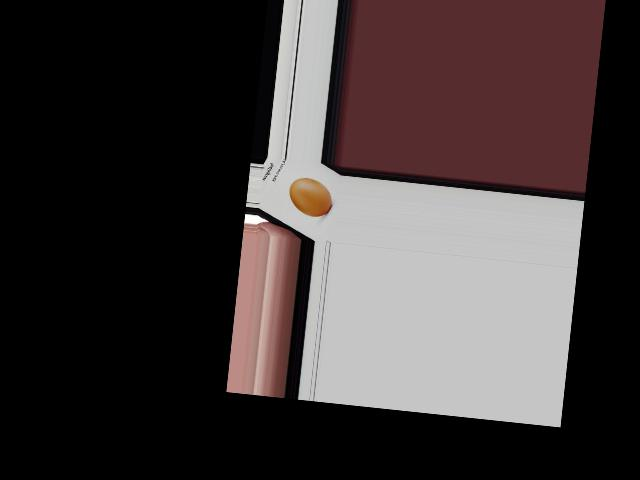egg: (287, 176, 334, 218)
